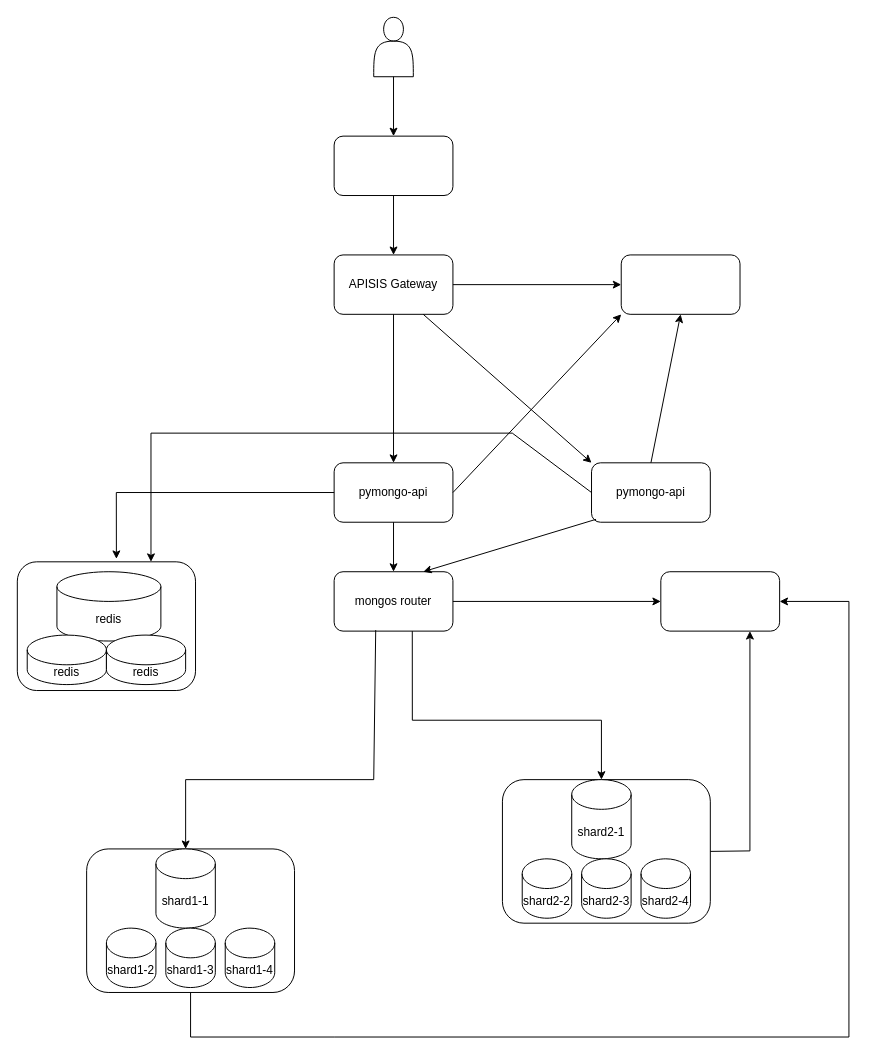
Some shapes in this 874 by 1062 pixel diagram are drawn without their labels. Here are the shapes that lost their labels. From the top down, the centre of each, then its label:
(x=393, y=165): Сайт react/nginx
(x=680, y=284): Consul
(x=720, y=601): configSrv
